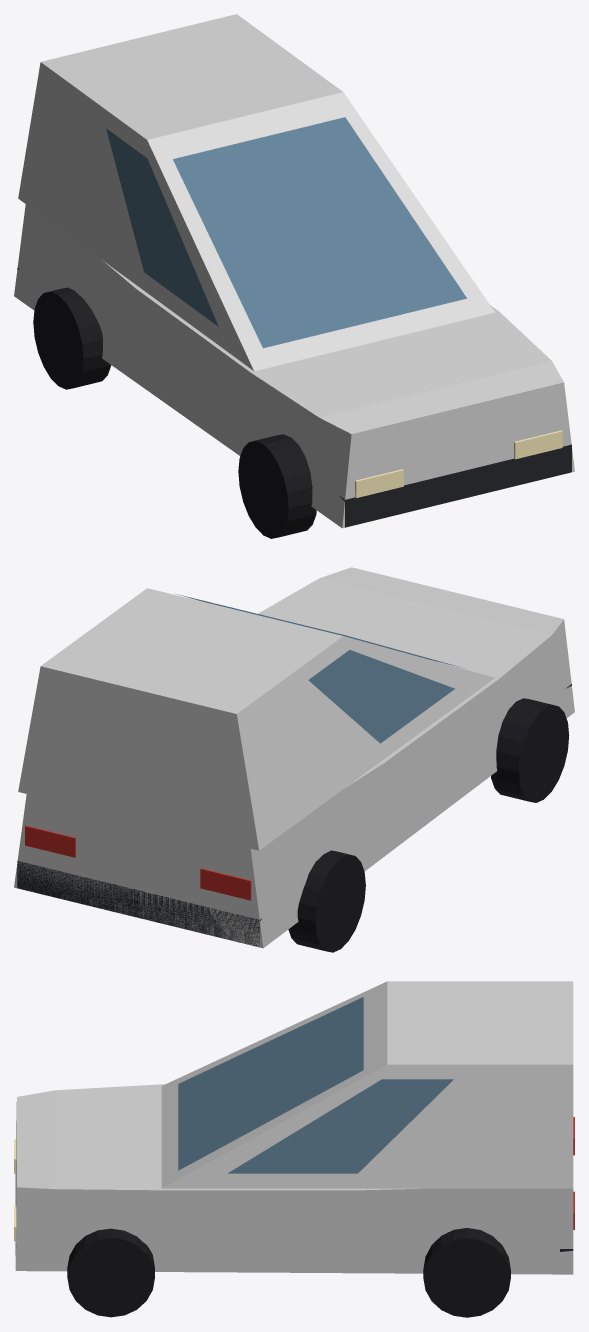
File: panel_van.glb
The picture shows the model from 3 angles, top to bottom: view 1: azimuth 30°, elevation 25°; view 2: azimuth 150°, elevation 25°; view 3: azimuth 270°, elevation 25°; orthographic projection. The views are drawn at different scales.
Parts seen in each view (by area): view 1: body, cabin, glass_screen, glass_side_0_L, wheel_1_L_tyre, bumper_nose, wheel_0_L_tyre, head_L, head_R; view 2: cabin, body, glass_side_0_L, bumper_tail, wheel_1_L_tyre, wheel_0_L_tyre, tail_L, tail_R, glass_screen; view 3: body, cabin, glass_screen, glass_side_0_R, wheel_0_R_tyre, wheel_1_R_tyre.
Part boxes in pixels (x1=…): body: x1=14, y1=204, x2=574, y2=528; cabin: x1=18, y1=14, x2=494, y2=371; glass_screen: x1=173, y1=117, x2=466, y2=348; glass_side_0_L: x1=106, y1=128, x2=218, y2=326; wheel_1_L_tyre: x1=238, y1=434, x2=316, y2=538; bumper_nose: x1=339, y1=444, x2=571, y2=527; wheel_0_L_tyre: x1=33, y1=287, x2=111, y2=389; head_L: x1=355, y1=469, x2=403, y2=497; head_R: x1=514, y1=430, x2=562, y2=459; cabin: x1=18, y1=588, x2=494, y2=850; body: x1=14, y1=567, x2=574, y2=948; glass_side_0_L: x1=308, y1=650, x2=454, y2=743; bumper_tail: x1=17, y1=861, x2=261, y2=946; wheel_1_L_tyre: x1=491, y1=698, x2=569, y2=802; wheel_0_L_tyre: x1=288, y1=850, x2=365, y2=952; tail_L: x1=200, y1=868, x2=251, y2=900; tail_R: x1=25, y1=825, x2=75, y2=857; glass_screen: x1=175, y1=593, x2=461, y2=667; body: x1=15, y1=1084, x2=573, y2=1274; cabin: x1=161, y1=981, x2=573, y2=1188; glass_screen: x1=178, y1=997, x2=363, y2=1170; glass_side_0_R: x1=227, y1=1079, x2=453, y2=1173; wheel_0_R_tyre: x1=423, y1=1228, x2=510, y2=1317; wheel_1_R_tyre: x1=67, y1=1228, x2=154, y2=1317.
Bounding box in the file's own units: 2.14 × 1.95 × 4.22.
